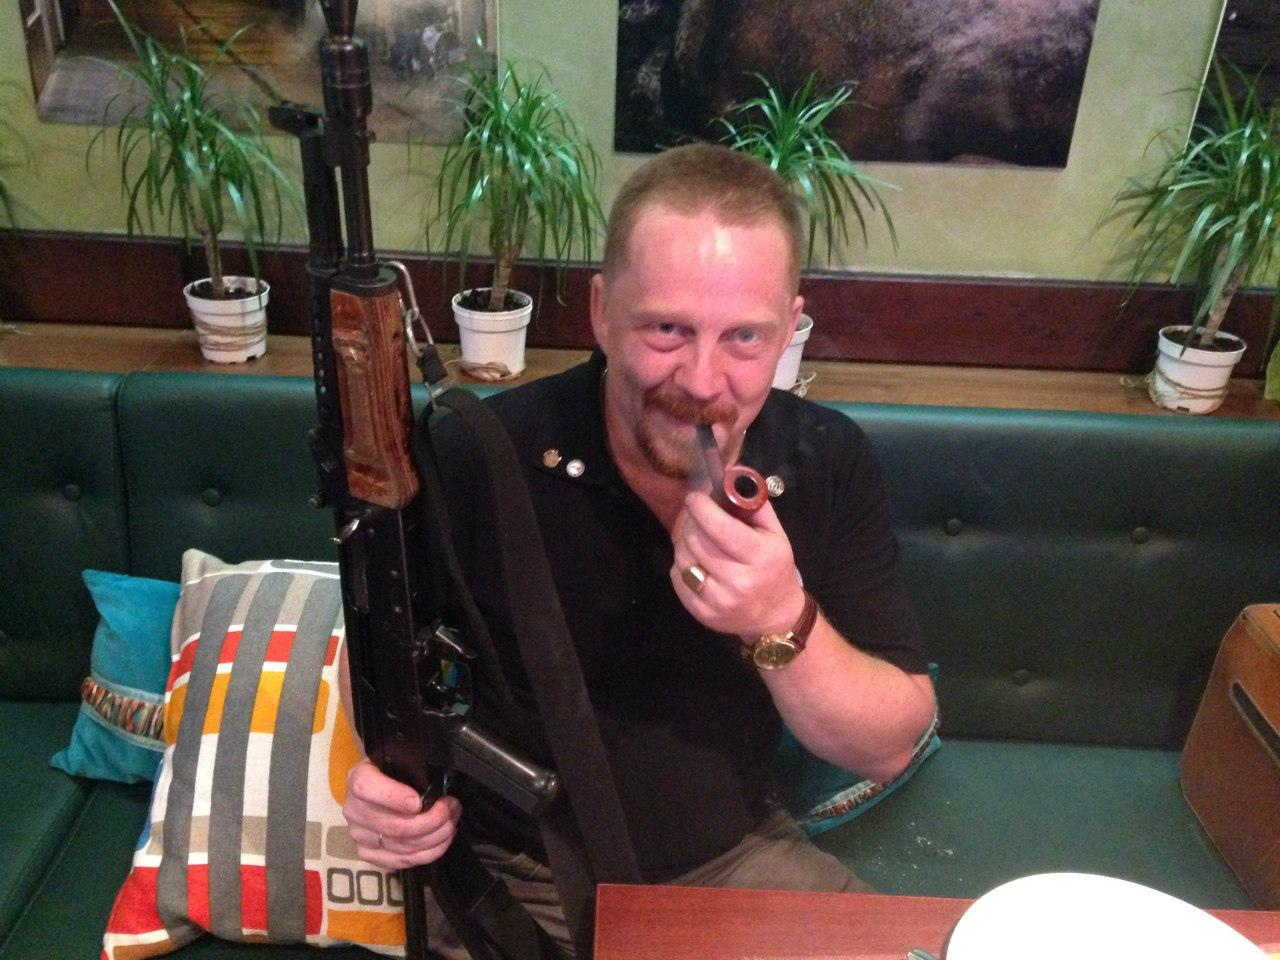trubka: (697, 422, 771, 522)
